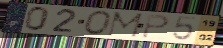0: (22, 6, 53, 32)
2: (51, 7, 78, 35)
5: (170, 15, 198, 42)
M: (106, 11, 145, 39)
O: (83, 10, 114, 37)
P: (141, 14, 172, 40)
